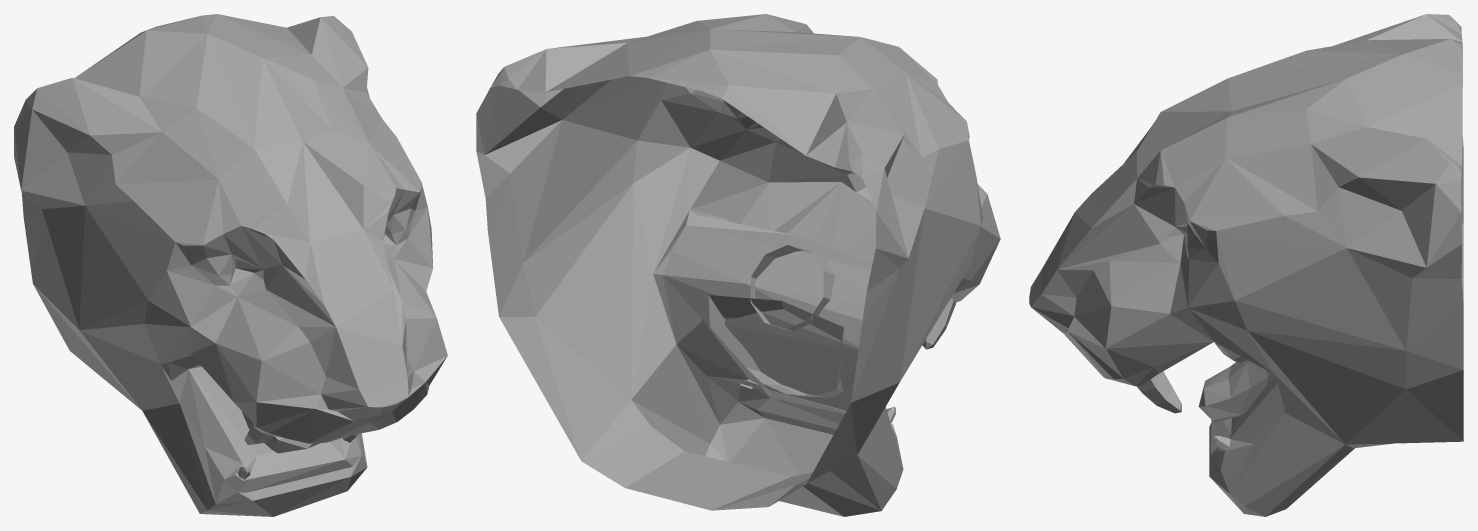
The model's file is PumaHeadTrapMetal.fbx.
The picture shows the model from 3 angles, left to right: view 1: azimuth 30°, elevation 25°; view 2: azimuth 150°, elevation 25°; view 3: azimuth 270°, elevation 25°; orthographic projection. The views are drawn at different scales.
Visible parts, largest first — view 1: PumaHeadTrapMetal; view 2: PumaHeadTrapMetal; view 3: PumaHeadTrapMetal.
Boxes of the visible parts, x1,y1,x2,y2 form: PumaHeadTrapMetal: (14, 14, 447, 516); PumaHeadTrapMetal: (476, 14, 1000, 516); PumaHeadTrapMetal: (1029, 14, 1463, 516).
Bounding box in the file's own units: 38.48 × 44.61 × 40.05.
